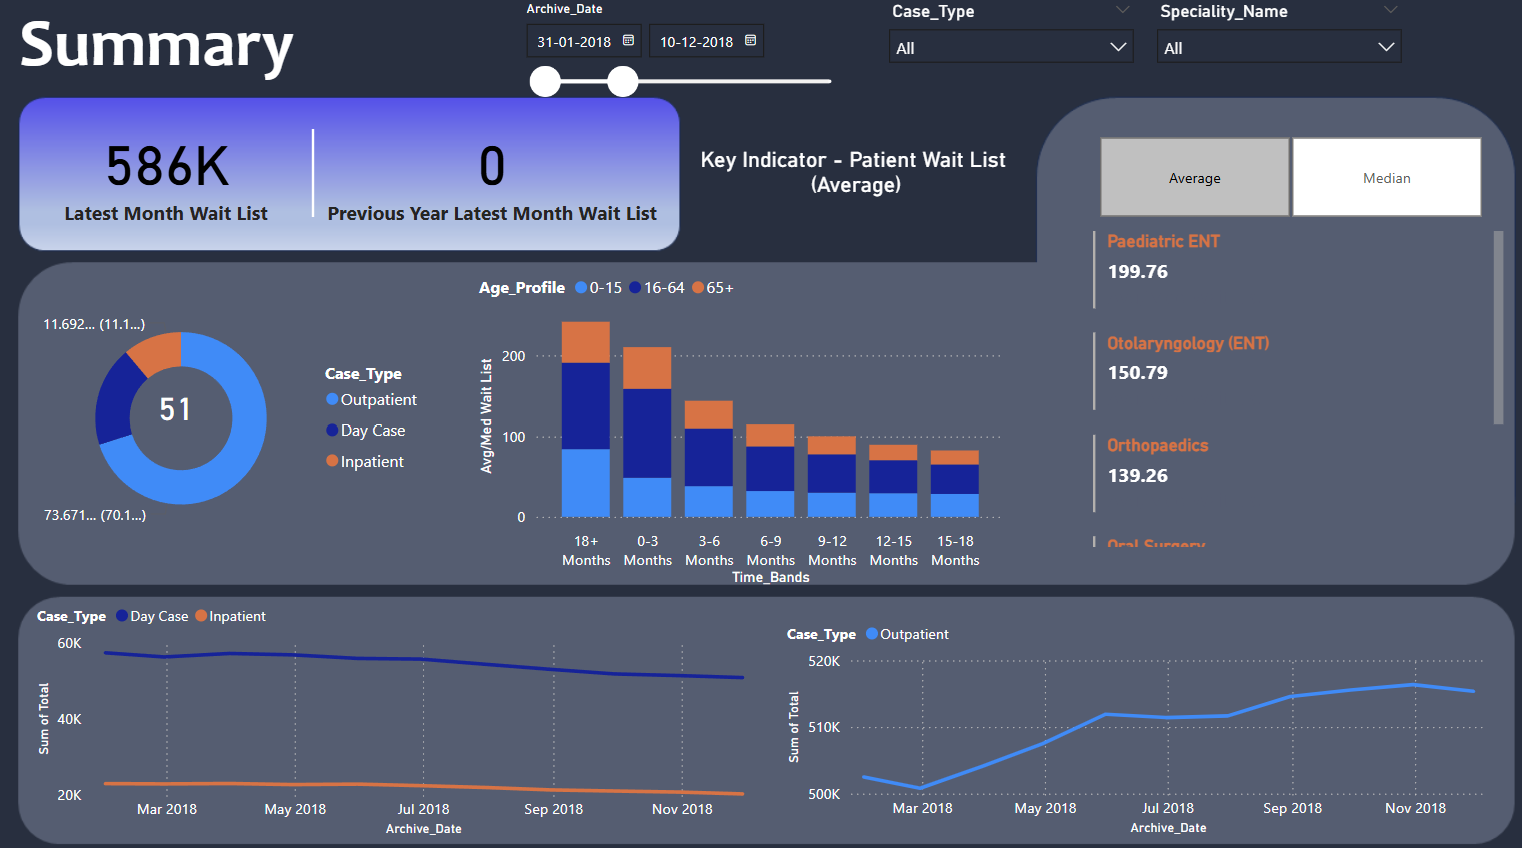

The page's visual inventory and layout, read from the dashboard file:
{"tool":"powerbi","page":{"name":"Summary","canvas":[1280,720],"ordinal":0},"visuals":[{"type":"card","fields":{"Values":["Whole_Data.Latest Month Wait List"]},"box":[0,91.7,288.3,111.7],"z":0},{"type":"card","fields":{"Values":["Whole_Data.PY Latest Month Wait List"]},"box":[271.7,91.7,288.3,111.7],"z":1000},{"type":"slicer","fields":{"Values":["Calculation Method.Calculation method"]},"box":[896,112,368,80],"z":2000},{"type":"donutChart","fields":{"Category":["Whole_Data.Case_Type"],"Y":["Whole_Data.Avg/Med Wait List"]},"box":[32,208,336,288],"z":3000},{"type":"columnChart","fields":{"Y":["Whole_Data.Avg/Med Wait List"],"Category":["Whole_Data.Time_Bands"],"Series":["Whole_Data.Age_Profile"]},"box":[400,224,448,272],"z":4000},{"type":"multiRowCard","fields":{"Values":["Whole_Data.Avg/Med Wait List","Whole_Data.Speciality_Name"]},"box":[912,192,352,272],"z":5000},{"type":"lineChart","fields":{"Category":["Whole_Data.Archive_Date"],"Y":["Sum(Whole_Data.Total)"],"Series":["Whole_Data.Case_Type"]},"box":[656,512,608,192],"z":6000},{"type":"lineChart","fields":{"Category":["Whole_Data.Archive_Date"],"Y":["Sum(Whole_Data.Total)"],"Series":["Whole_Data.Case_Type"]},"box":[32,496,624,208],"z":7000},{"type":"slicer","fields":{"Values":["Whole_Data.Archive_Date"]},"box":[432,0,288,96],"z":8000},{"type":"slicer","fields":{"Values":["Whole_Data.Case_Type"]},"box":[736,0,224,80],"z":9000},{"type":"slicer","fields":{"Values":["Whole_Data.Speciality_Name"]},"box":[960,0,224,80],"z":10000},{"type":"textbox","box":[16,0,256,96],"z":11000},{"type":"card","fields":{"Values":["Whole_Data.Avg/Med Wait List"]},"box":[80,304,144,80],"z":11001},{"type":"shape","box":[116.7,111.7,300,73.3],"z":11002},{"type":"card","fields":{"Values":["Whole_Data.Dynamic title"]},"box":[560,91.7,318.3,111.7],"z":11003}]}

Visuals, with their boxes in screenshot pixels (x1, y1, x2, y2), scaled from the page's 1280x720 canvas onto the 1522x848 screenshot:
card - Whole_Data.Latest Month Wait List: 0, 108, 343, 240
card - Whole_Data.PY Latest Month Wait List: 323, 108, 666, 240
slicer - Calculation Method.Calculation method: 1065, 132, 1503, 226
donutChart - Whole_Data.Case_Type x Whole_Data.Avg/Med Wait List: 38, 245, 438, 584
columnChart - Whole_Data.Avg/Med Wait List x Whole_Data.Time_Bands: 476, 264, 1008, 584
multiRowCard - Whole_Data.Avg/Med Wait List x Whole_Data.Speciality_Name: 1084, 226, 1503, 546
lineChart - Whole_Data.Archive_Date x Sum(Whole_Data.Total): 780, 603, 1503, 829
lineChart - Whole_Data.Archive_Date x Sum(Whole_Data.Total): 38, 584, 780, 829
slicer - Whole_Data.Archive_Date: 514, 0, 856, 113
slicer - Whole_Data.Case_Type: 875, 0, 1142, 94
slicer - Whole_Data.Speciality_Name: 1142, 0, 1408, 94
textbox: 19, 0, 323, 113
card - Whole_Data.Avg/Med Wait List: 95, 358, 266, 452
shape: 139, 132, 495, 218
card - Whole_Data.Dynamic title: 666, 108, 1044, 240
